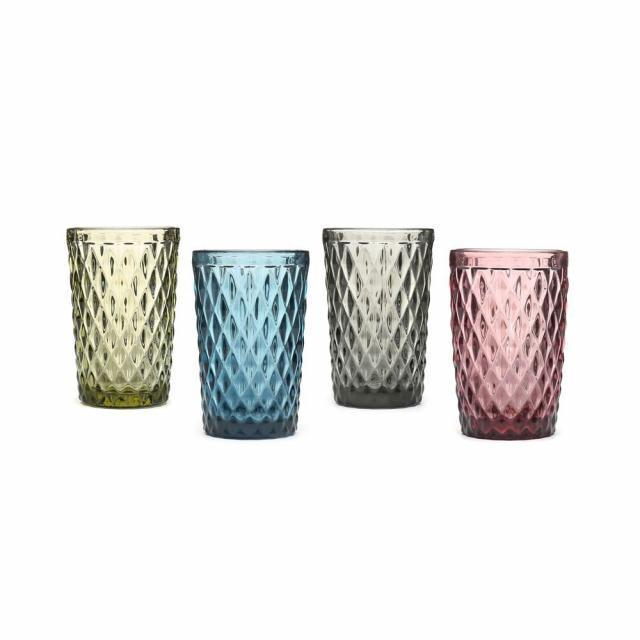glass: (453, 247, 567, 440), (193, 246, 307, 438), (65, 226, 178, 409), (323, 230, 431, 402)
